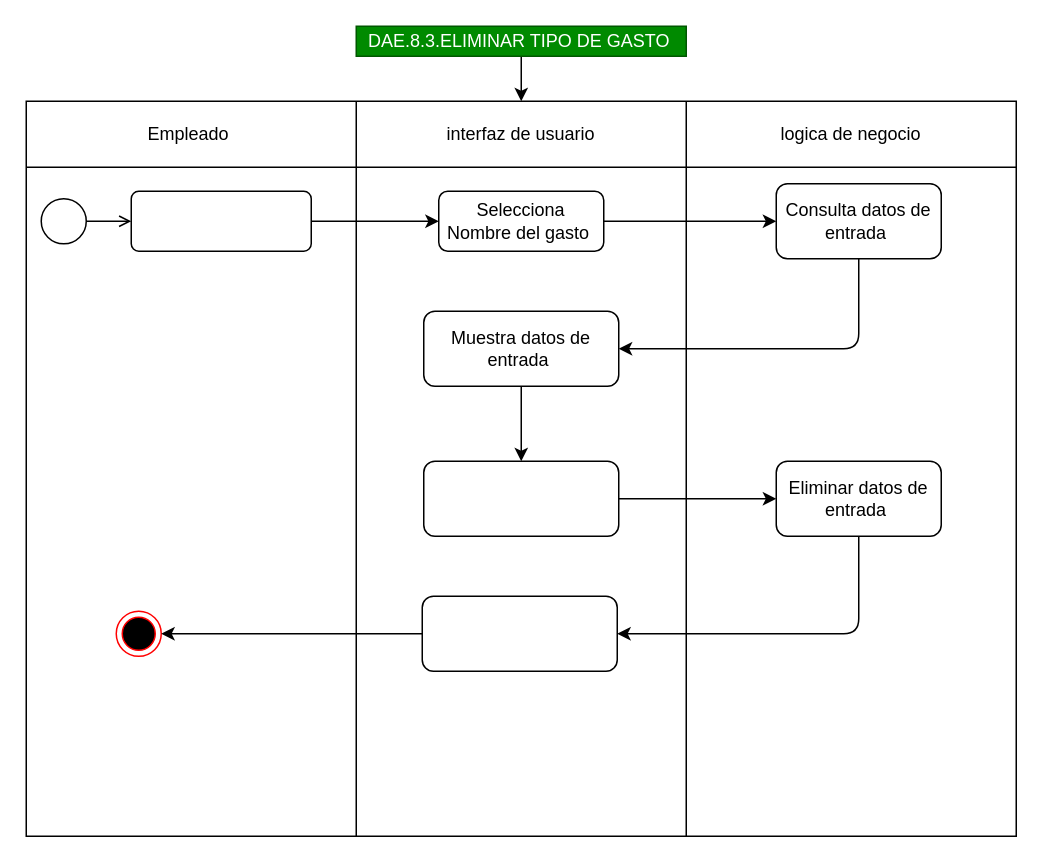
This 1043x863 diagram has some shape labels left out. Here are the shapes that lost their labels. From the top down, the centre of each, then its label:
At [220,220]: "consulta gasto".
At [520,498]: "seleciona eliminar y confirma datos de entrada".
At [519,633]: "Muestra datos de entrada almacenados".
